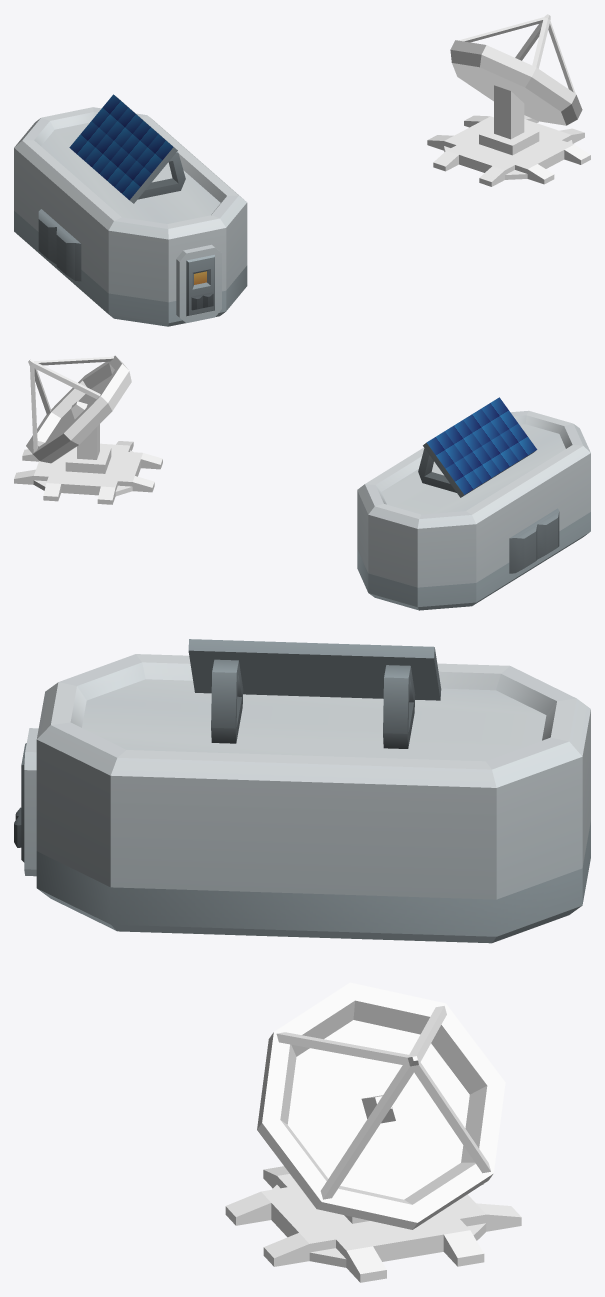
File: Research_1.glb
3 views of the same model, one above another, from view 1: azimuth 30°, elevation 25°; view 2: azimuth 150°, elevation 25°; view 3: azimuth 270°, elevation 25° (orthographic). The views are drawn at different scales.
Parts seen in each view (by area): view 1: cargodepot_C, satelliteDish_detailed; view 2: cargodepot_C, satelliteDish_detailed; view 3: cargodepot_C, satelliteDish_detailed.
Part boxes in pixels (bbox=[...]): cargodepot_C: bbox=[14, 94, 247, 326]; satelliteDish_detailed: bbox=[427, 14, 590, 186]; cargodepot_C: bbox=[357, 397, 590, 610]; satelliteDish_detailed: bbox=[14, 355, 162, 504]; cargodepot_C: bbox=[14, 639, 590, 943]; satelliteDish_detailed: bbox=[225, 982, 521, 1282].
Size of the model in its own units: 4.08 by 1.02 by 2.11.
2 materials, 1 textured.
